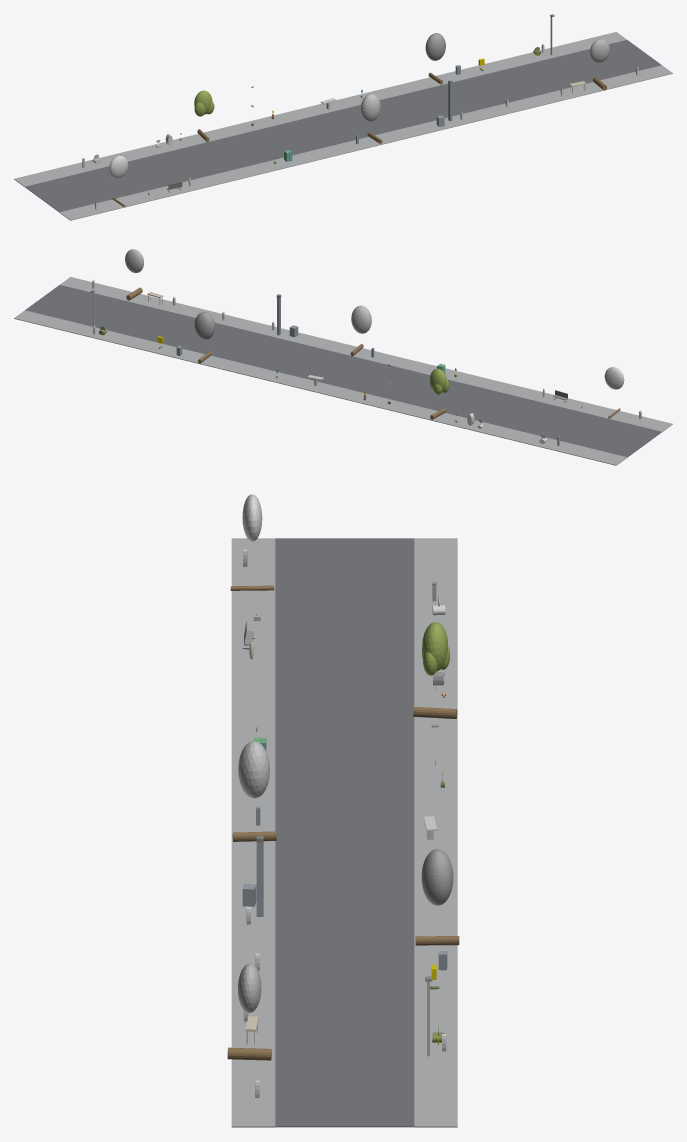
The picture shows the model from 3 angles, top to bottom: view 1: azimuth 30°, elevation 25°; view 2: azimuth 150°, elevation 25°; view 3: azimuth 270°, elevation 25°; orthographic projection. The views are drawn at different scales.
Visible parts, largest first — view 1: road_slab, sidewalk_left, sidewalk_right, inst_0014, inst_0015, inst_0013, inst_0016, inst_0012; view 2: road_slab, sidewalk_right, sidewalk_left, inst_0014, inst_0015, inst_0013, inst_0016, inst_0012; view 3: road_slab, sidewalk_left, sidewalk_right, inst_0015, inst_0014, inst_0013, inst_0016, inst_0012.
Part boxes in pixels (left/top/right/bottom): road_slab: left=25, top=40, right=661, bottom=212; sidewalk_left: left=59, top=65, right=672, bottom=220; sidewalk_right: left=14, top=32, right=626, bottom=186; inst_0014: left=360, top=93, right=382, bottom=143; inst_0015: left=425, top=33, right=445, bottom=84; inst_0013: left=194, top=90, right=214, bottom=142; inst_0016: left=590, top=39, right=609, bottom=90; inst_0012: left=109, top=155, right=128, bottom=207; road_slab: left=25, top=285, right=661, bottom=457; sidewalk_right: left=14, top=310, right=627, bottom=465; sidewalk_left: left=60, top=277, right=672, bottom=431; inst_0014: left=350, top=305, right=371, bottom=356; inst_0015: left=194, top=312, right=214, bottom=363; inst_0013: left=430, top=368, right=449, bottom=419; inst_0016: left=125, top=249, right=143, bottom=300; inst_0012: left=604, top=367, right=624, bottom=418; road_slab: left=275, top=538, right=414, bottom=1127; sidewalk_left: left=231, top=538, right=275, bottom=1127; sidewalk_right: left=414, top=538, right=457, bottom=1127; inst_0015: left=415, top=849, right=459, bottom=945; inst_0014: left=232, top=741, right=276, bottom=841; inst_0013: left=413, top=622, right=457, bottom=718; inst_0016: left=227, top=963, right=271, bottom=1060; inst_0012: left=230, top=494, right=274, bottom=590.
Bounding box in the file's own units: 80 × 6.08 × 13.32.
